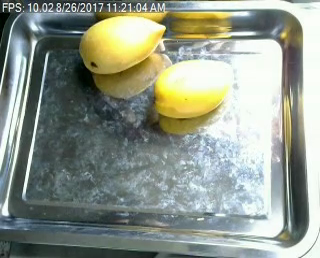Mango: (79, 15, 164, 75), (153, 57, 230, 117)
